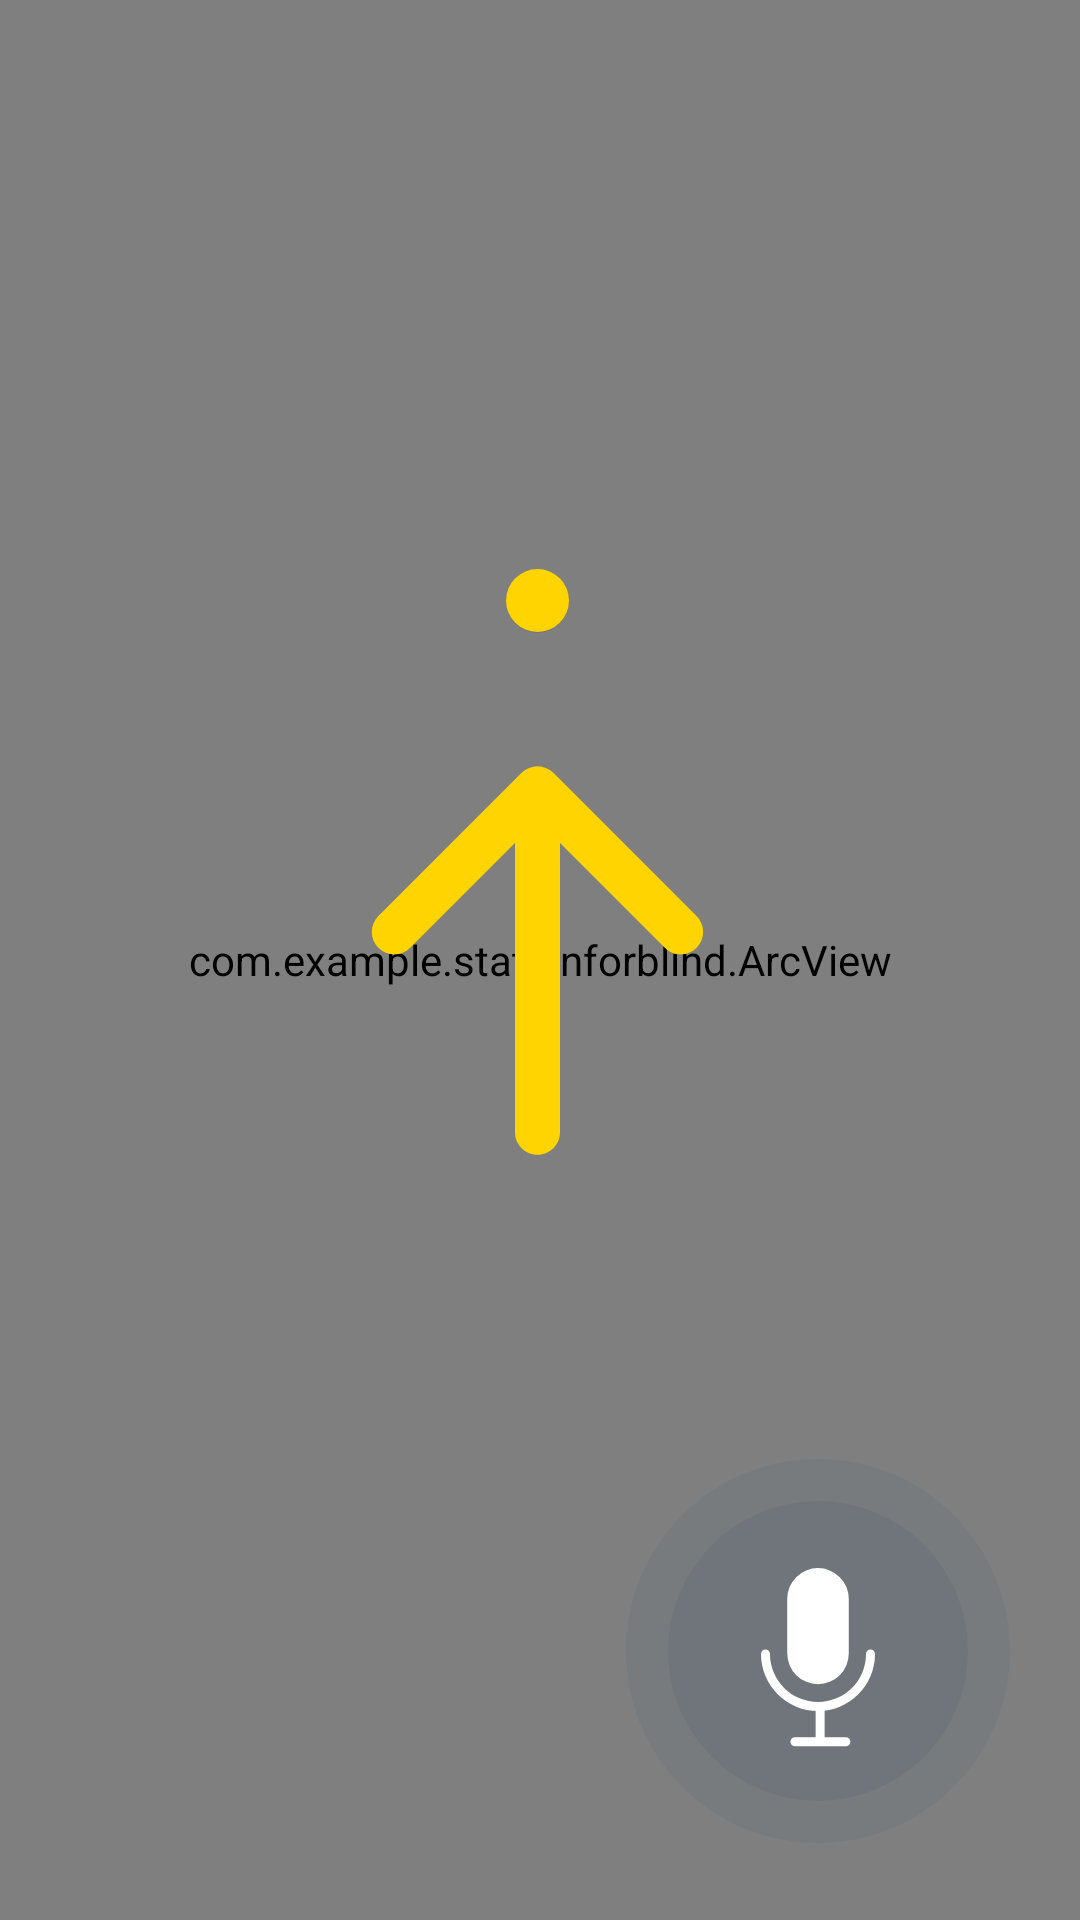

Icon click points for this 1080w x 1920h phone screenshot, format point (x, y):
음성인식 버튼입니다. 누르거나 화면을 흔들어주세요: point (818, 1651)
